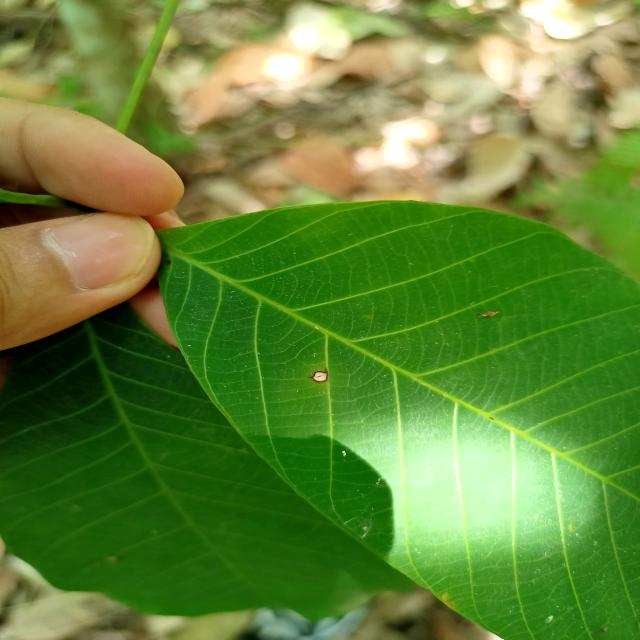Colletotrichum: (310, 371, 328, 383)
